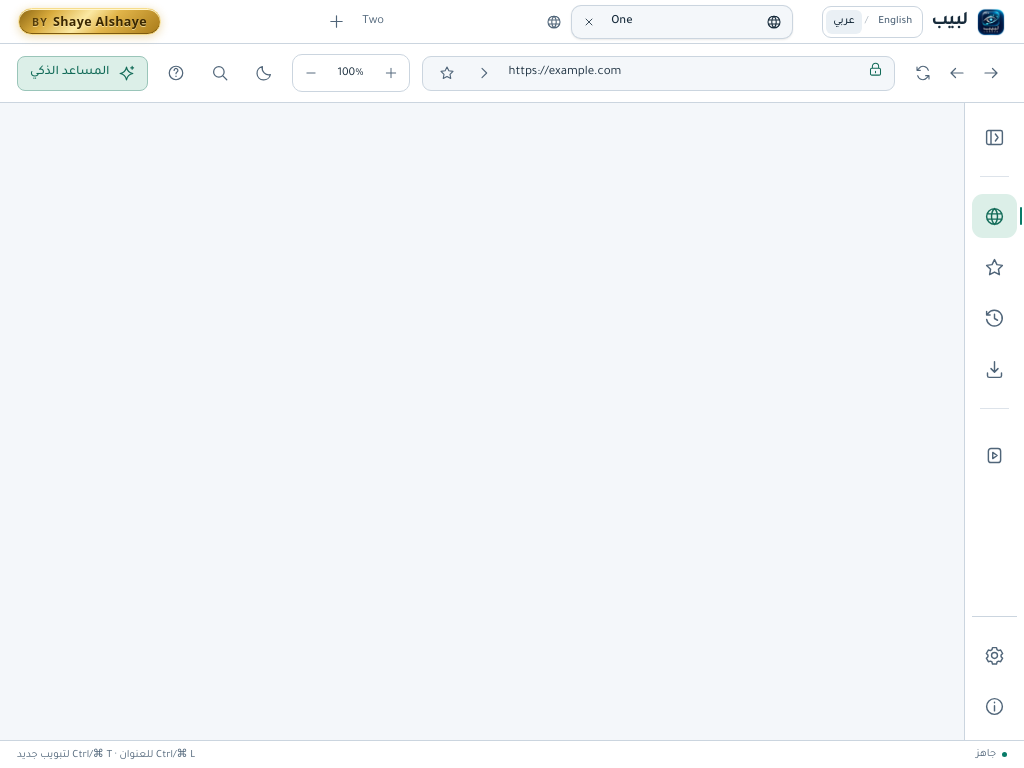
Test: desktop shell › restores the actual address when switching tabs with the same URL
The image size is (1024, 768).
Replace the text in the dropdown named "ابحث أو أدخل عنوان موقع" with "https://draft.example" at coordinates (682, 73), box x1=507 y1=56 x2=857 y2=90
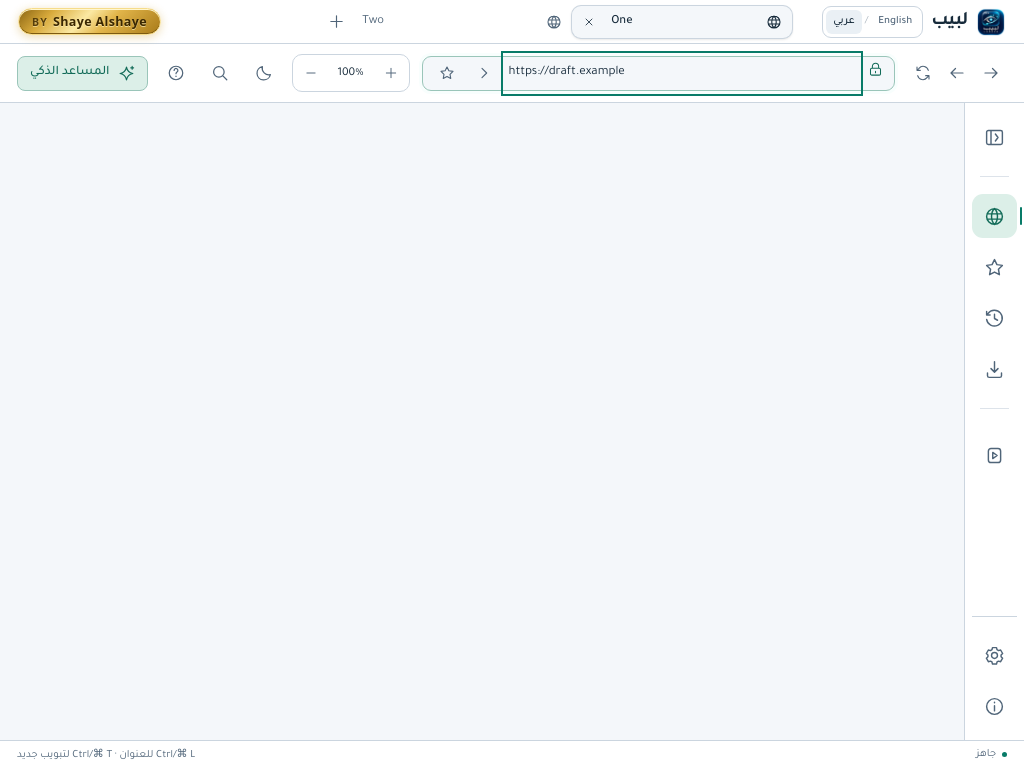
Click the tab "Two" at coordinates (462, 22), box x1=352 y1=6 x2=572 y2=38
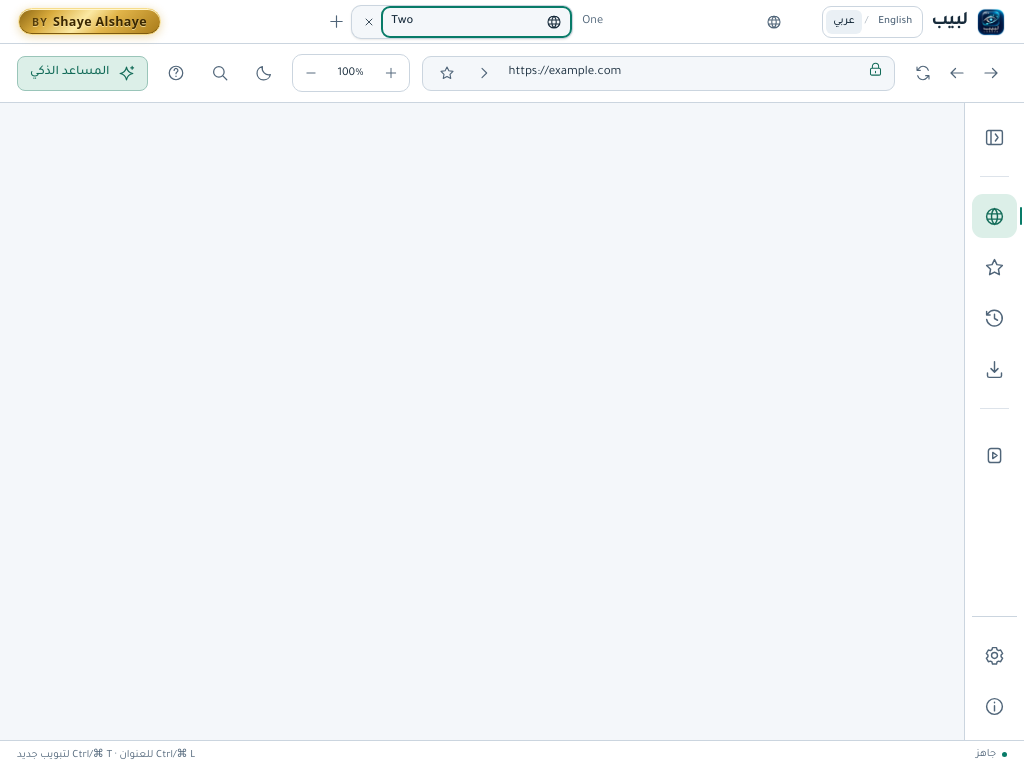
Result: the dropdown named "ابحث أو أدخل عنوان موقع" holds "https://example.com" at x1=507 y1=56 x2=857 y2=90
